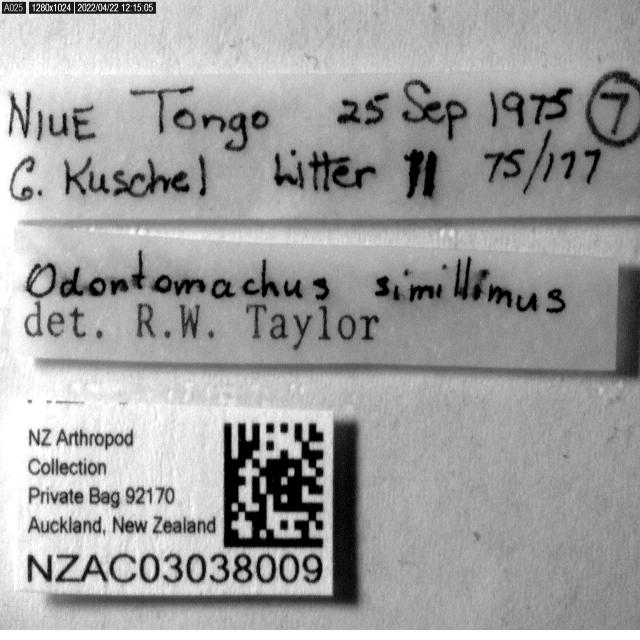hand_label: (0, 69, 640, 220)
mixed_label: (14, 225, 619, 372)
typed_label: (15, 400, 334, 595)
